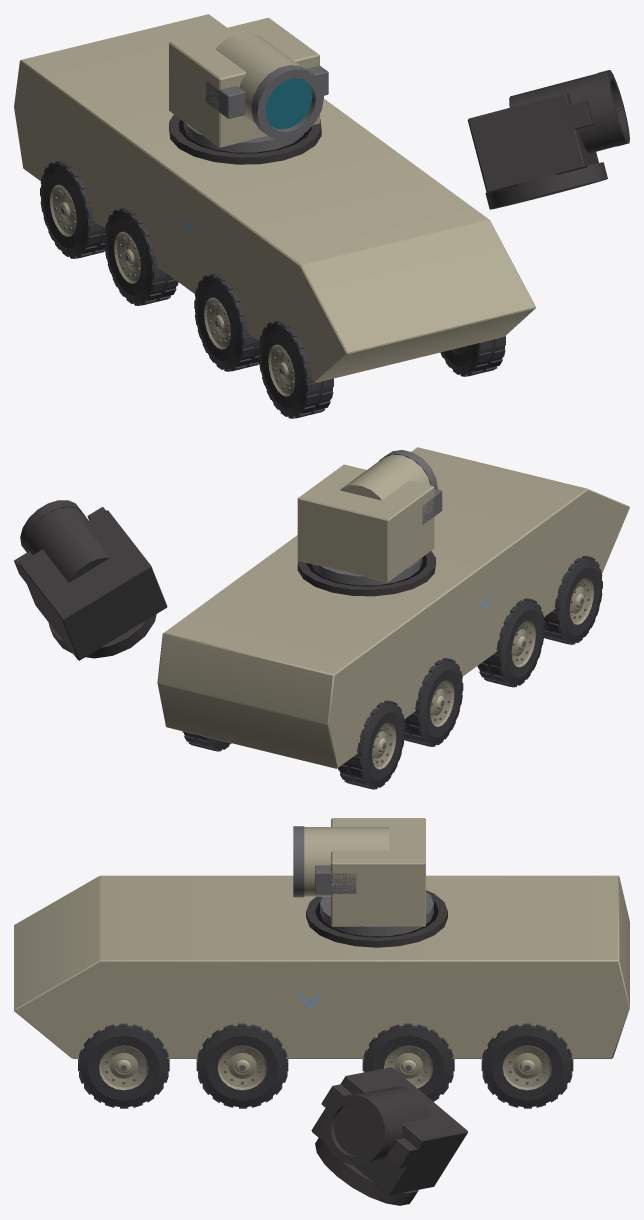
File: laserAD__iron_beam_or_eitan.glb
The picture shows the model from 3 angles, top to bottom: view 1: azimuth 30°, elevation 25°; view 2: azimuth 150°, elevation 25°; view 3: azimuth 270°, elevation 25°; orthographic projection. The views are drawn at different scales.
Visible parts, largest first — view 1: Hull_Mesh, Wreck, Turret_Mesh, Gun_Mesh, Wheel_L3_Mesh, Wheel_L1_Mesh, Wheel_L0_Mesh, Wheel_L2_Mesh, Wheel_R3_Mesh; view 2: Hull_Mesh, Wreck, Turret_Mesh, Wheel_L0_Mesh, Wheel_L2_Mesh, Wheel_L1_Mesh, Wheel_L3_Mesh, Gun_Mesh, Wheel_R0_Mesh; view 3: Hull_Mesh, Wreck, Turret_Mesh, Wheel_R2_Mesh, Wheel_R0_Mesh, Wheel_R3_Mesh, Gun_Mesh, Wheel_R1_Mesh.
Part boxes in pixels (<box>): Hull_Mesh: <box>14,14,535,382</box>; Wreck: <box>70,70,629,375</box>; Turret_Mesh: <box>169,17,319,152</box>; Gun_Mesh: <box>206,32,328,140</box>; Wheel_L3_Mesh: <box>258,320,333,418</box>; Wheel_L1_Mesh: <box>104,207,178,305</box>; Wheel_L0_Mesh: <box>40,160,105,258</box>; Wheel_L2_Mesh: <box>194,273,259,371</box>; Wheel_R3_Mesh: <box>440,336,505,376</box>; Hull_Mesh: <box>157,447,629,768</box>; Wreck: <box>14,500,591,789</box>; Turret_Mesh: <box>297,464,434,585</box>; Wheel_L0_Mesh: <box>338,700,404,789</box>; Wheel_L2_Mesh: <box>477,598,544,687</box>; Wheel_L1_Mesh: <box>404,658,463,746</box>; Wheel_L3_Mesh: <box>543,555,602,644</box>; Gun_Mesh: <box>340,450,442,524</box>; Wheel_R0_Mesh: <box>182,731,231,751</box>; Hull_Mesh: <box>14,875,629,1058</box>; Wreck: <box>106,890,517,1205</box>; Turret_Mesh: <box>320,818,433,936</box>; Wheel_R2_Mesh: <box>196,1023,288,1108</box>; Wheel_R0_Mesh: <box>481,1023,573,1108</box>; Wheel_R3_Mesh: <box>78,1023,169,1108</box>; Gun_Mesh: <box>293,826,388,897</box>; Wheel_R1_Mesh: <box>362,1023,454,1101</box>.
Size of what is drawn, in the model's own units: 6.49 by 3.26 by 7.78.
